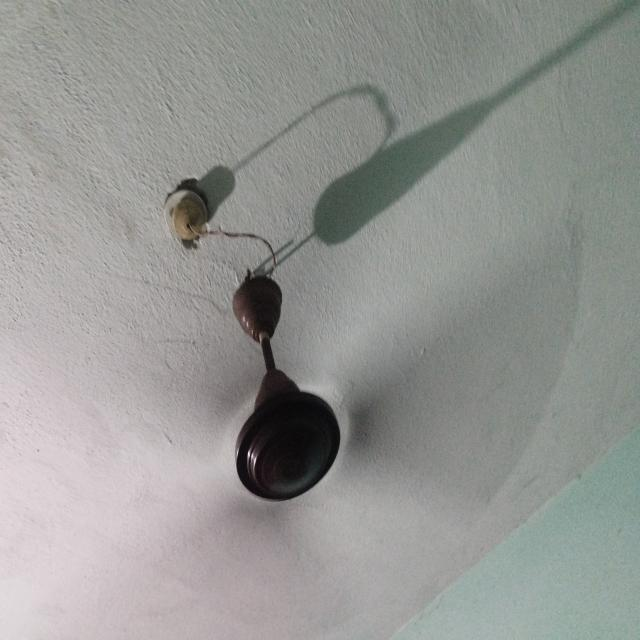fan_on: (176, 249, 582, 615)
